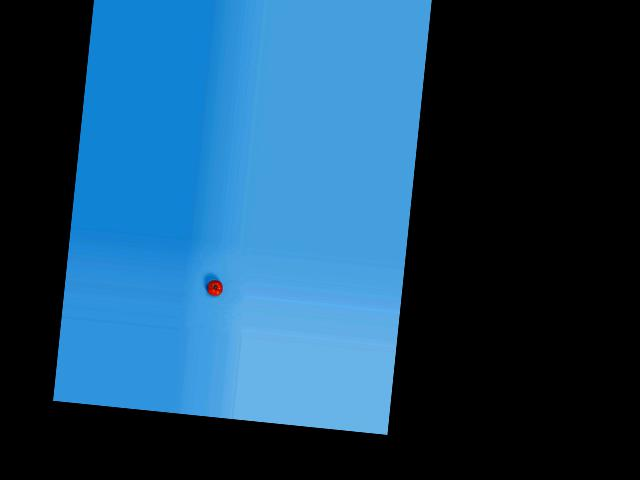tomato: (206, 278, 223, 296)
